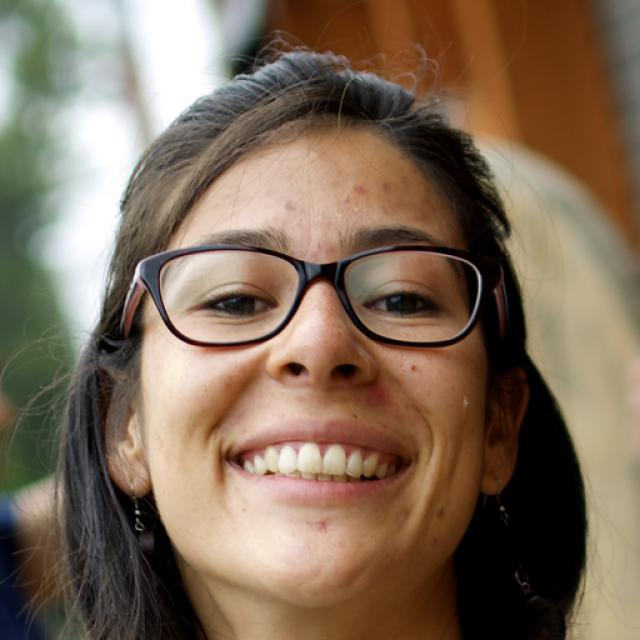Acne: (308, 510, 329, 537), (403, 357, 428, 379), (370, 380, 390, 399)
